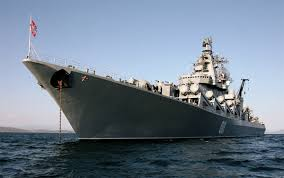tau_muctieu: (22, 24, 271, 144)
